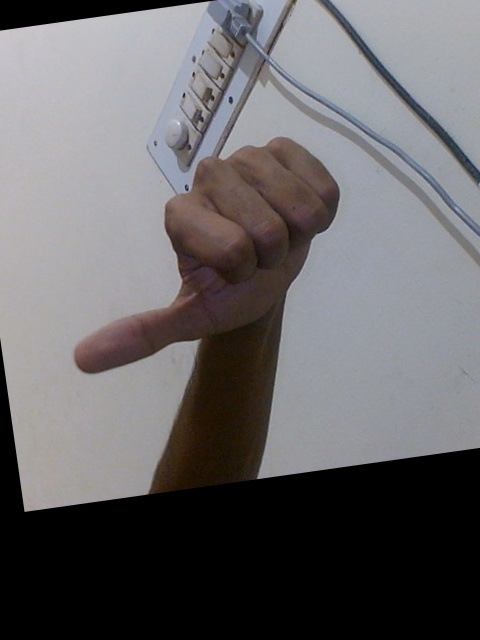hand: (65, 132, 344, 378)
